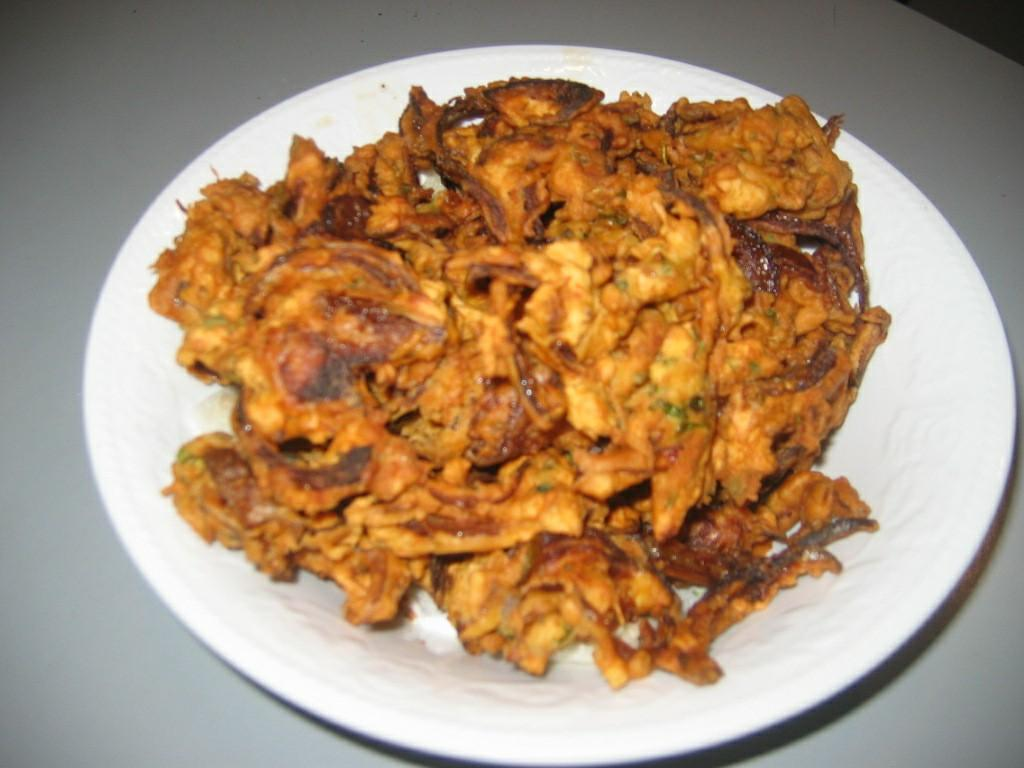OnionPakoda: (144, 74, 894, 687)
